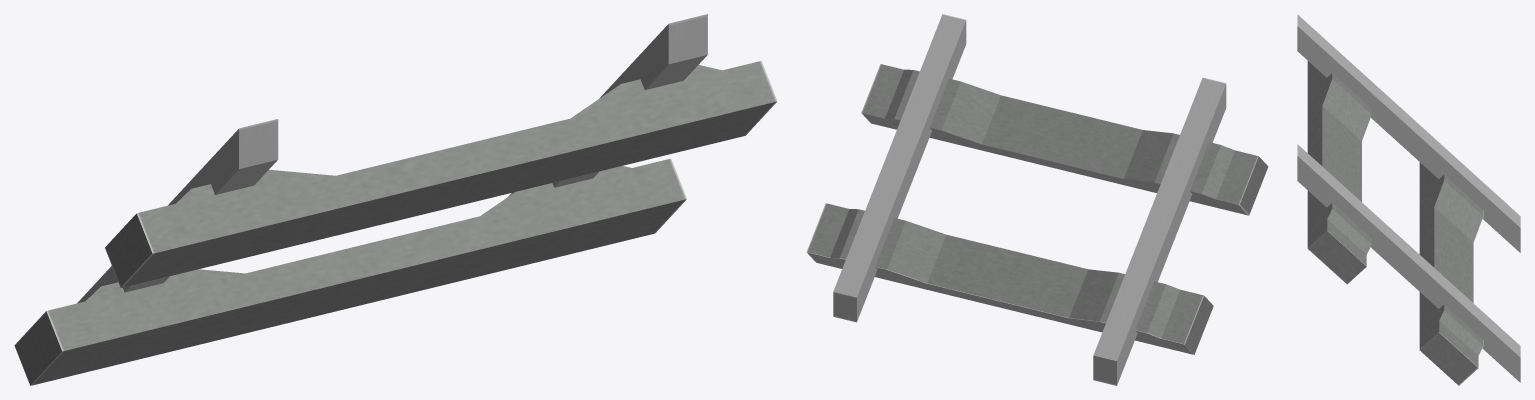
Rendered from rail_nor_slope.obj.
The picture shows the model from 3 angles, left to right: view 1: azimuth 30°, elevation 25°; view 2: azimuth 150°, elevation 25°; view 3: azimuth 270°, elevation 25°; orthographic projection. The views are drawn at different scales.
Visible parts, largest first — view 1: b3, b4, r2, r1; view 2: b3, b4, r1, r2; view 3: b3, b4, r1, r2.
Part boxes in pixels (<box>): b3: <box>105,61,777,287</box>; b4: <box>14,158,686,385</box>; r2: <box>77,119,278,303</box>; r1: <box>508,14,707,196</box>; b3: <box>861,64,1268,215</box>; b4: <box>806,203,1213,354</box>; r1: <box>833,14,966,322</box>; r2: <box>1093,77,1226,385</box>; b3: <box>1307,61,1371,284</box>; b4: <box>1419,162,1483,385</box>; r1: <box>1297,144,1520,382</box>; r2: <box>1297,14,1520,252</box>.
Bounding box in the file's own units: 2 × 1.12 × 1.
